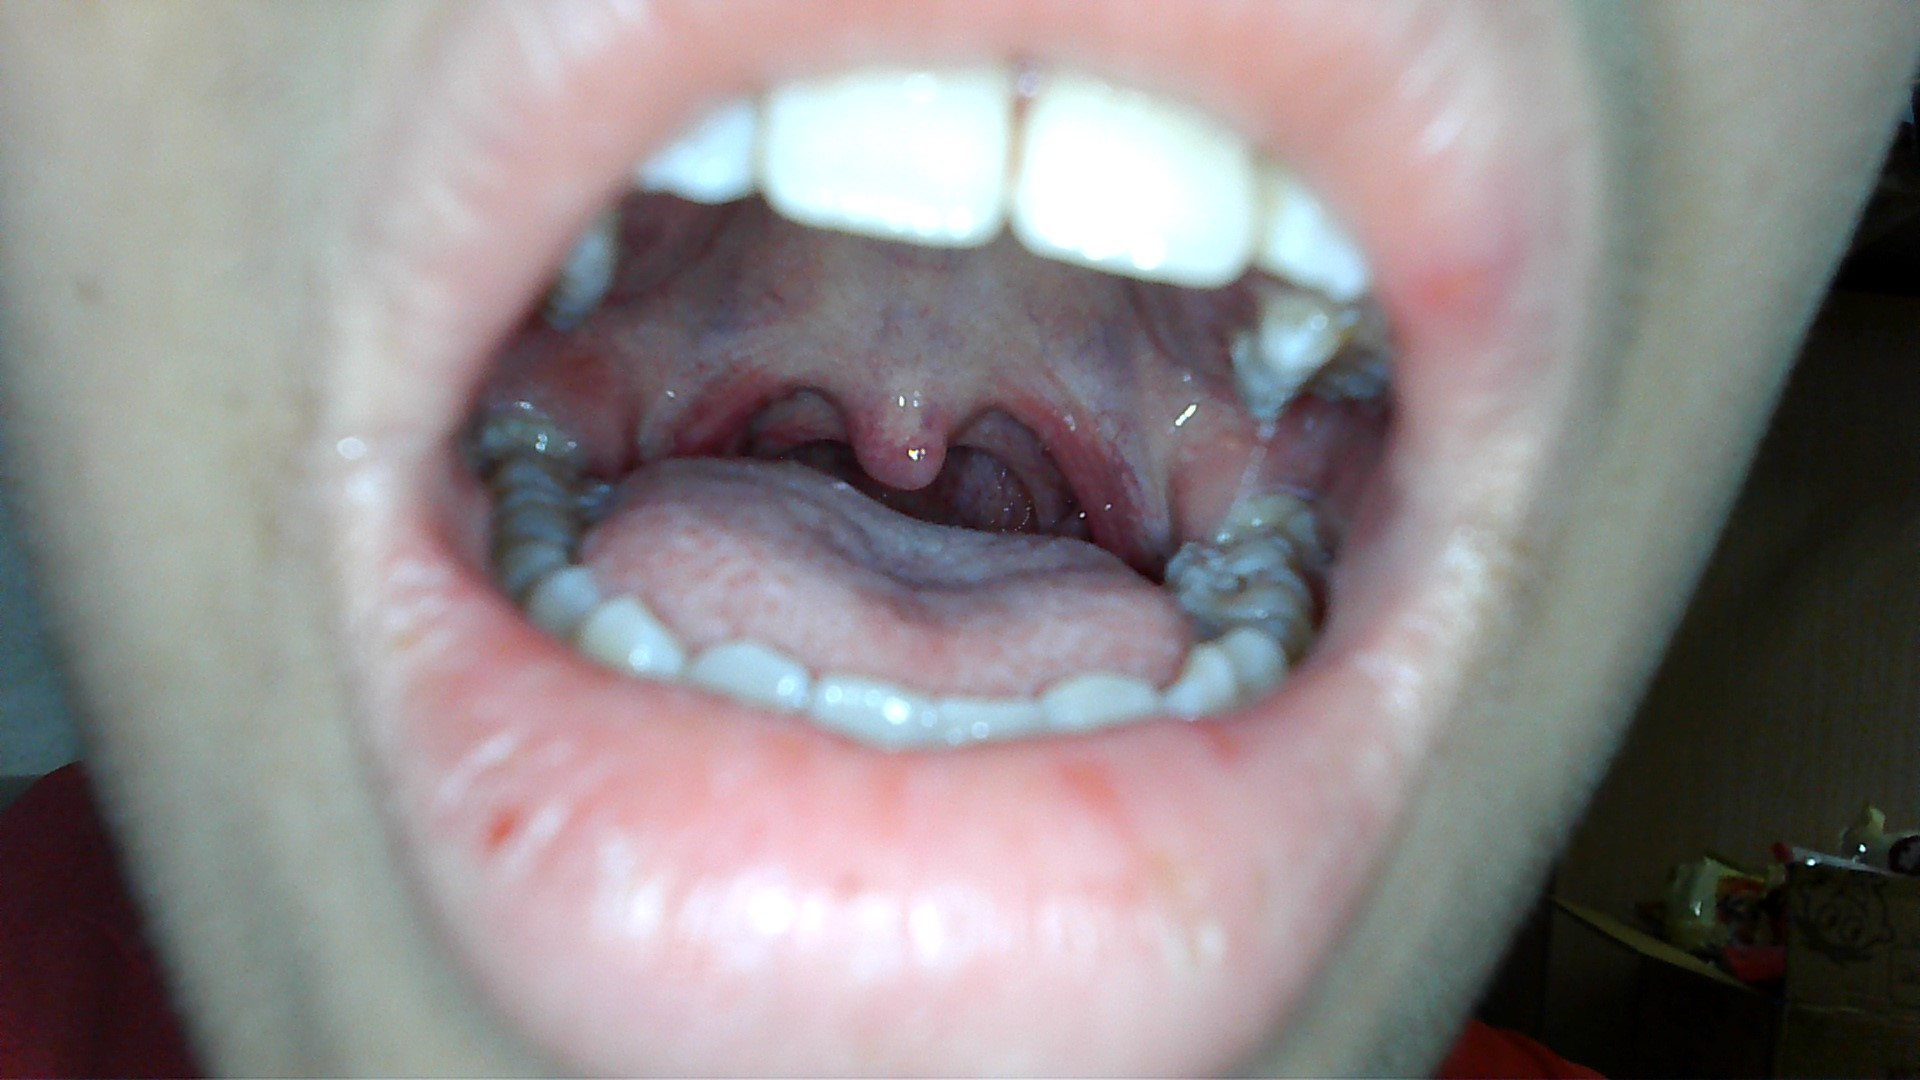throat: (1018, 368, 1146, 535), (654, 336, 790, 456)
